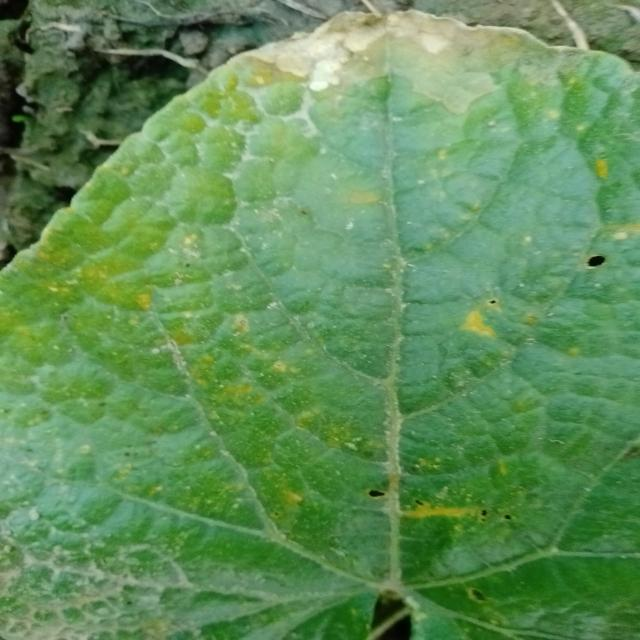cucumber_downy: (11, 18, 640, 631)
